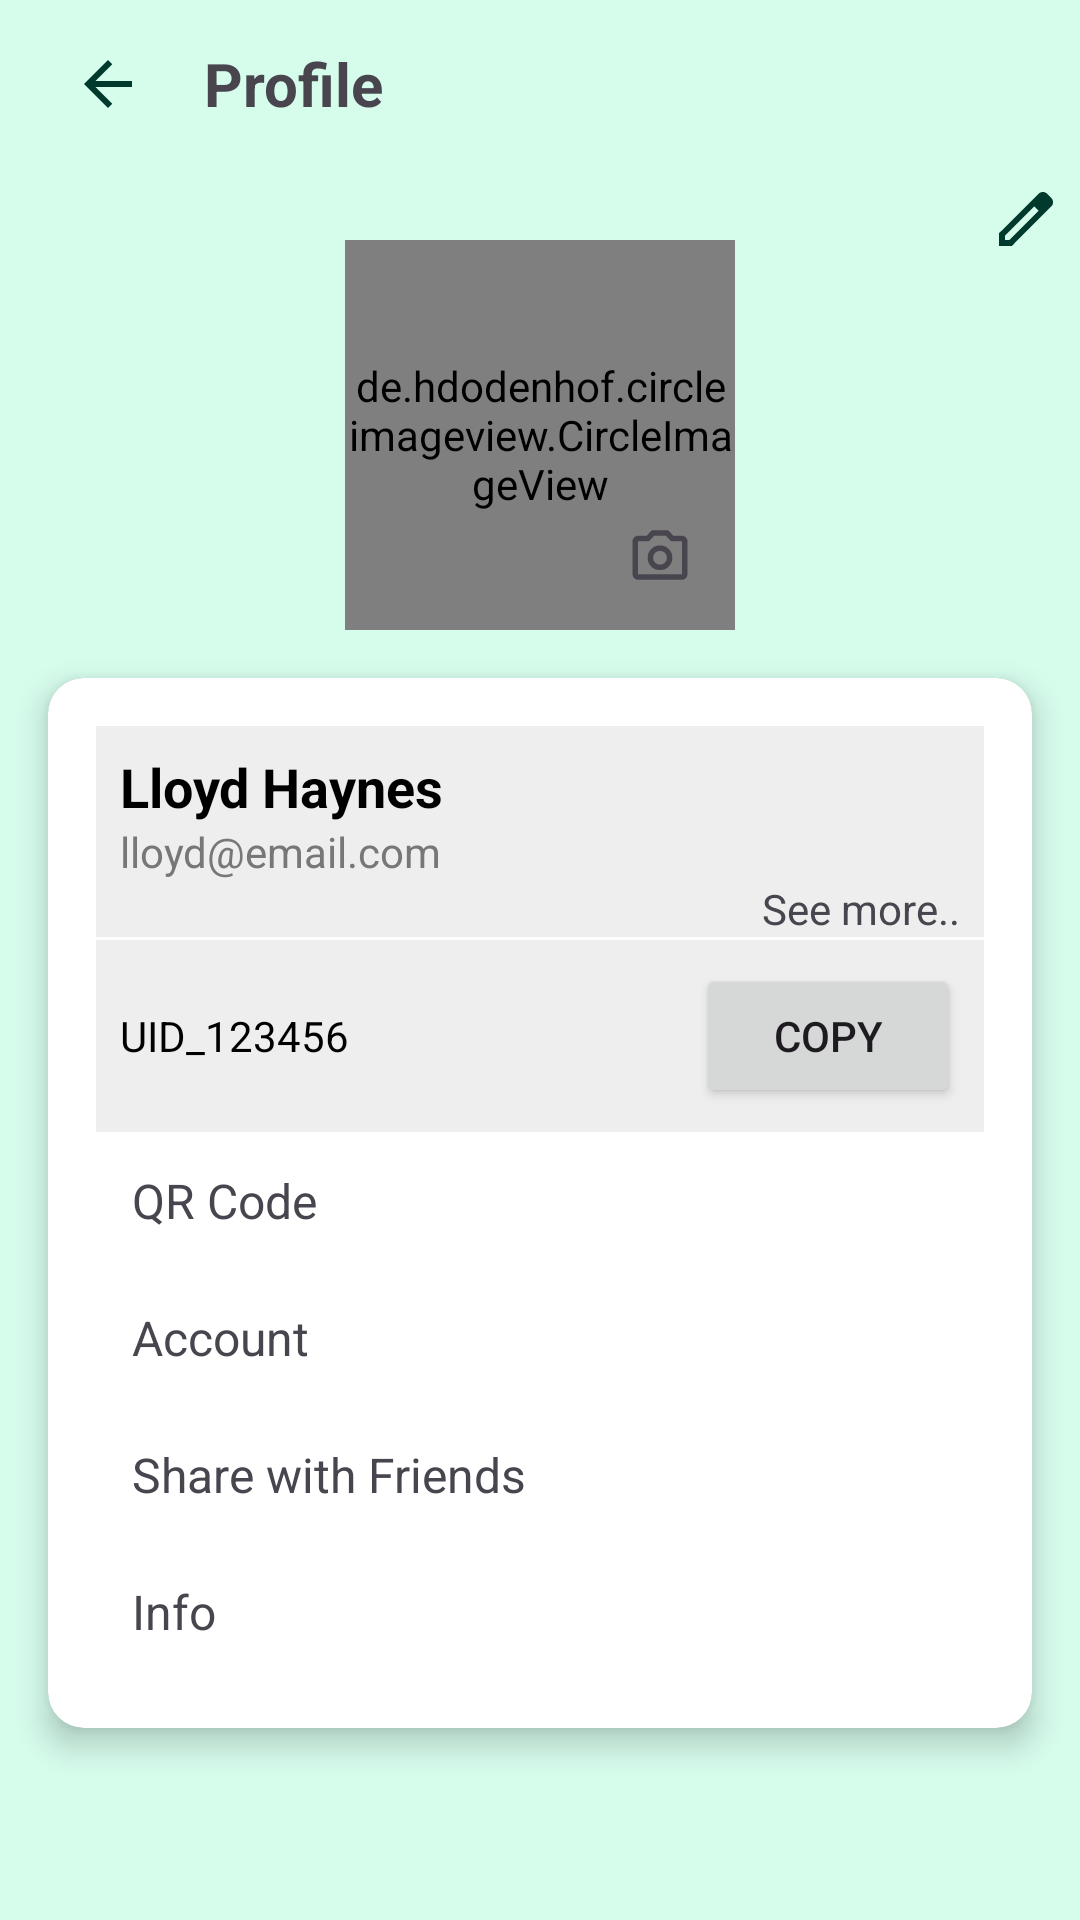

Named icons in this screenshot (1080 x 1920) and their centers, point (x, y):
arrow back: point (108, 84)
camera: point (660, 555)
edit profile: point (1026, 219)
